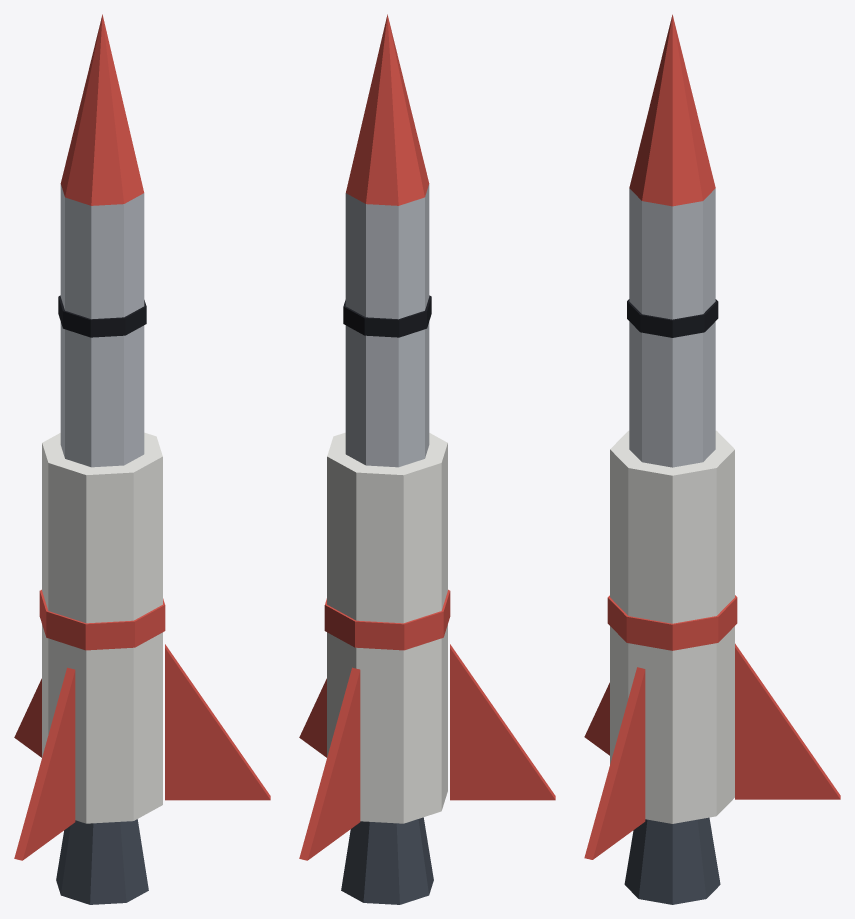
The model's file is vehicle_sounding.glb.
3 views of the same model, side by side, from view 1: azimuth 30°, elevation 25°; view 2: azimuth 150°, elevation 25°; view 3: azimuth 270°, elevation 25° (orthographic).
Visible parts, largest first — view 1: vehicle_sounding; view 2: vehicle_sounding; view 3: vehicle_sounding.
Boxes of the visible parts, bbox=[...] form: vehicle_sounding: bbox=[14, 14, 270, 904]; vehicle_sounding: bbox=[299, 14, 555, 904]; vehicle_sounding: bbox=[584, 14, 840, 904].
Size of the model in its own units: 0.6162 by 2 by 0.5337.
